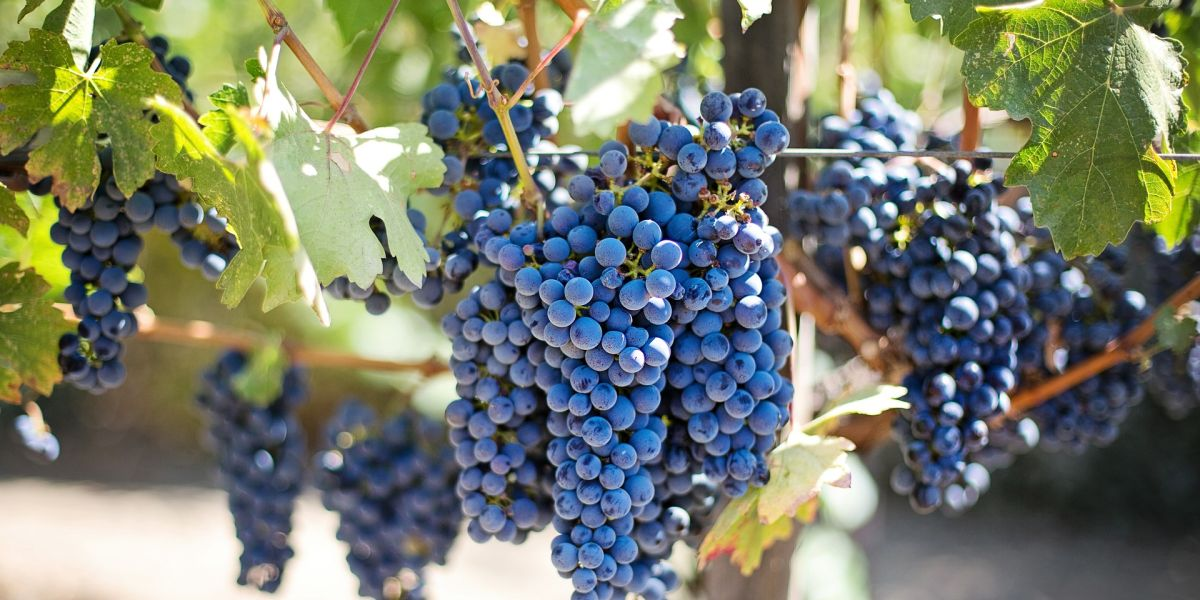Black grapes: (480, 134, 786, 600), (827, 94, 1023, 522), (27, 95, 231, 394)
